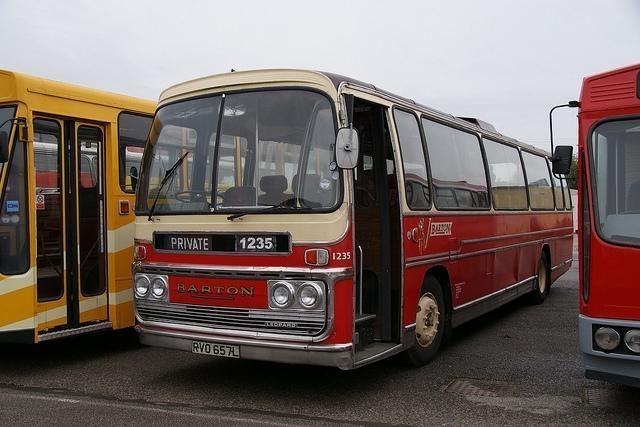bus: (135, 70, 574, 369), (1, 69, 159, 346), (549, 64, 640, 380)
